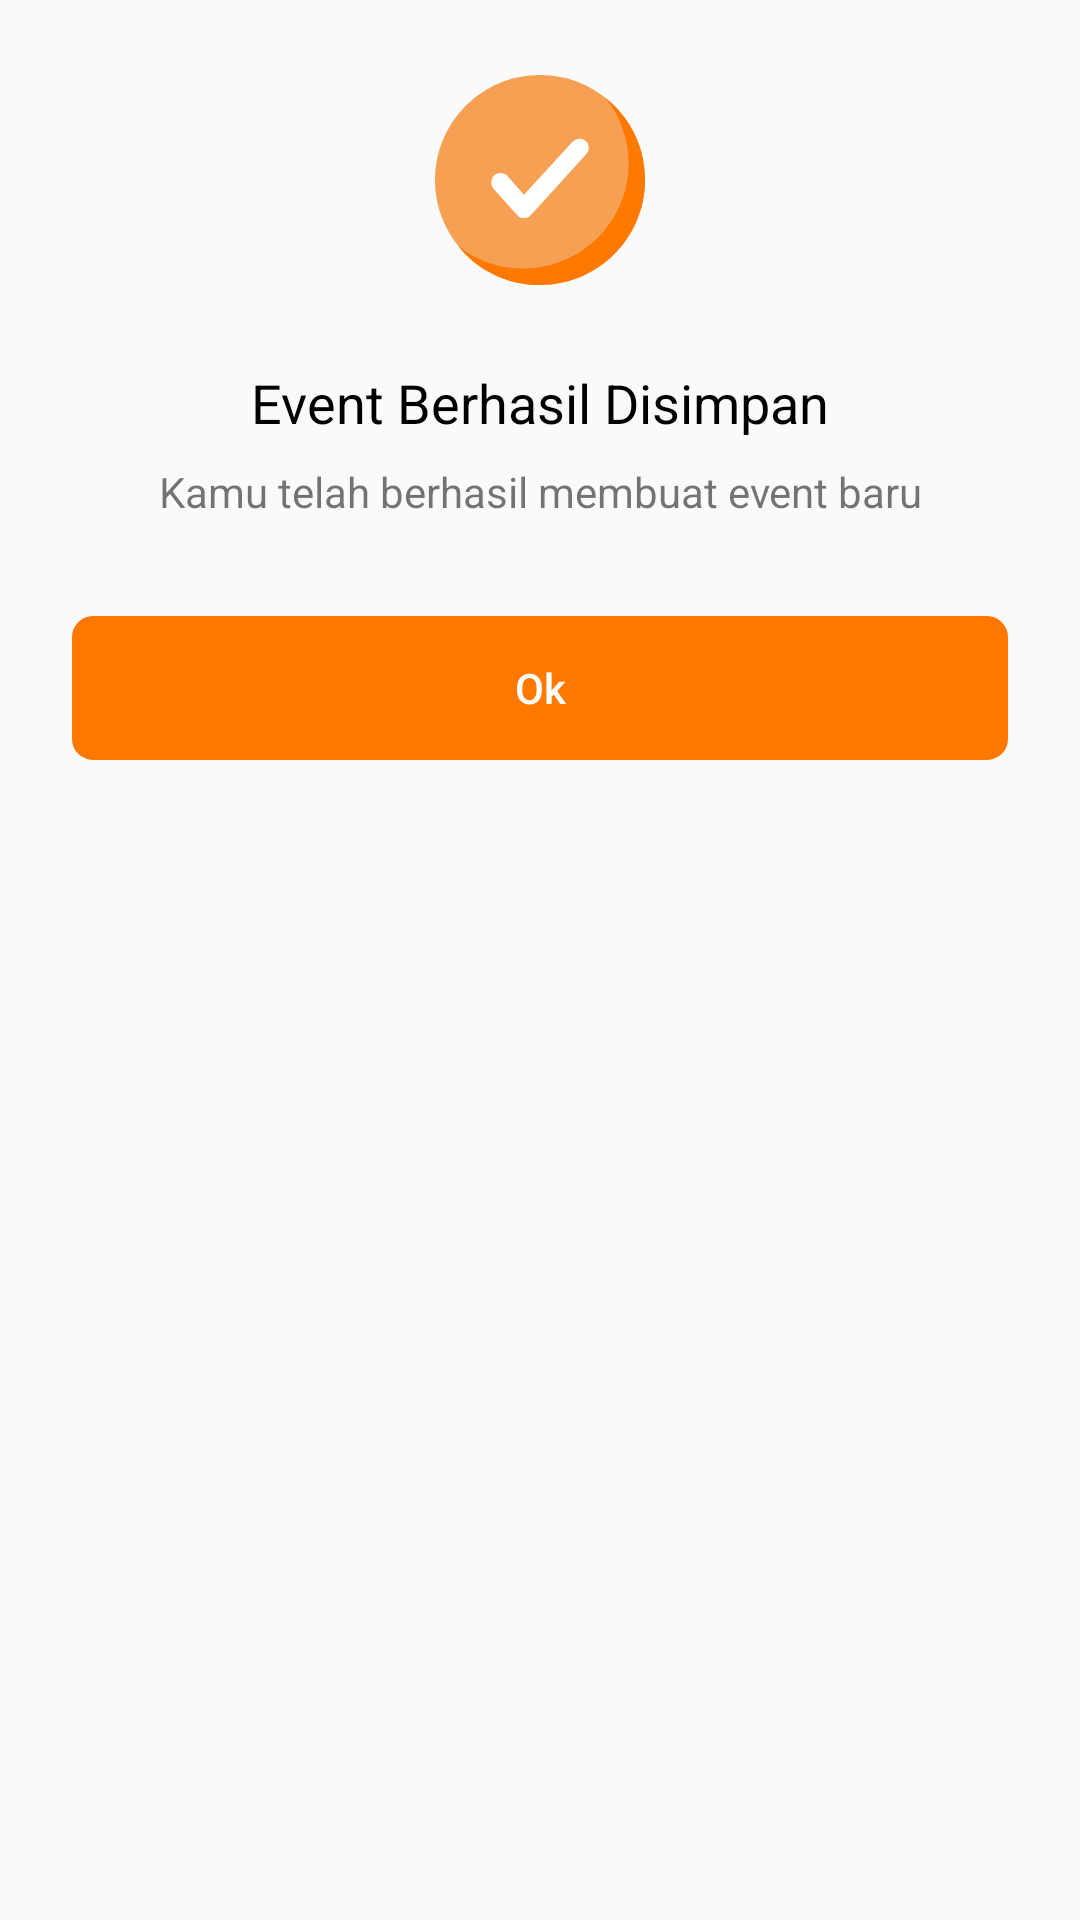

Locate icon controls on the screen. Image size 1080*1920, boxes as box=[x1, y1, x2, y2].
success: box=[435, 75, 645, 285]
